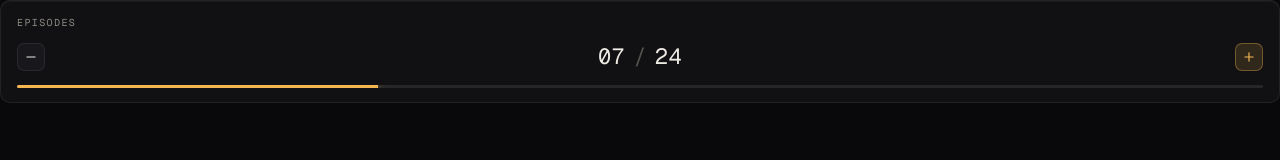
ProgressStepper › puts the number back on Esc
The image size is (1280, 160).
Click the button named "Episode you're on" at (612, 56), box [594, 40, 629, 73]
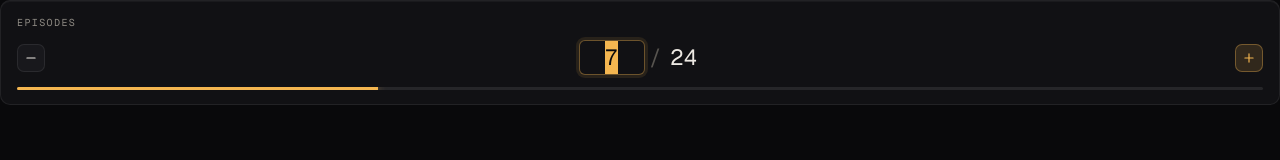
Replace the text in the field with "20" at (612, 58), box [578, 40, 644, 75]
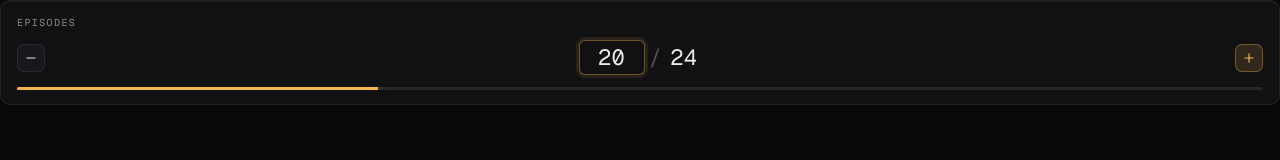
Press Escape in the field, box [578, 40, 644, 75]
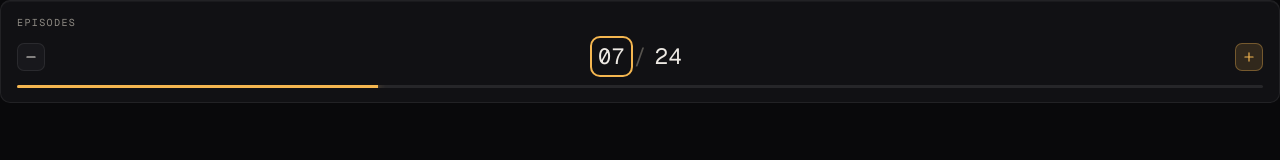
Check: the button named "Episode you're on: 7" is shown, box [594, 40, 629, 73]
